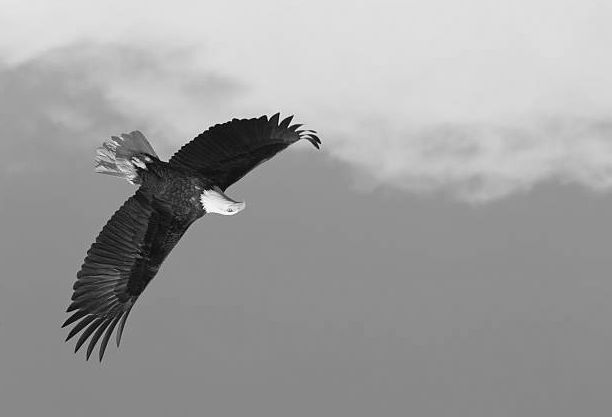Bird: (60, 107, 323, 366)
